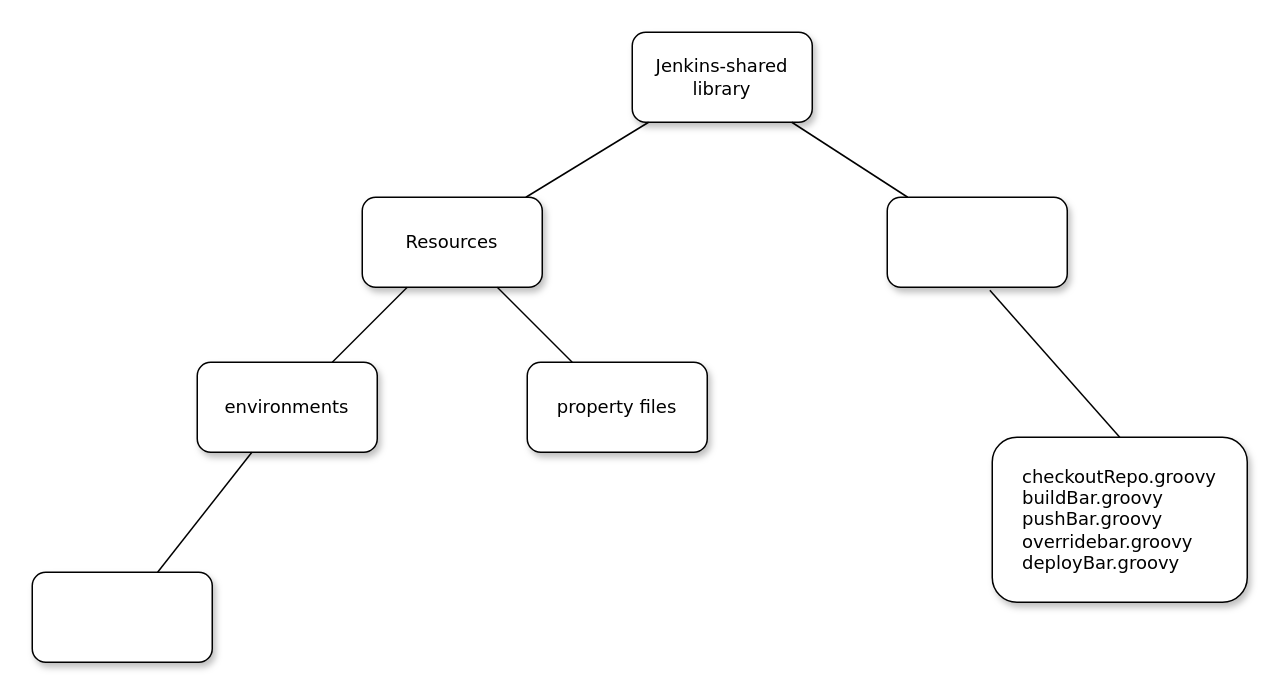
The diagram is 1283 pixels wide and 699 high, and some of its shapes have lost their labels. The centre of each missing label's shape, as x and y in pixels:
"json files" belongs at point 123,619.
"Vars" belongs at point 978,244.
